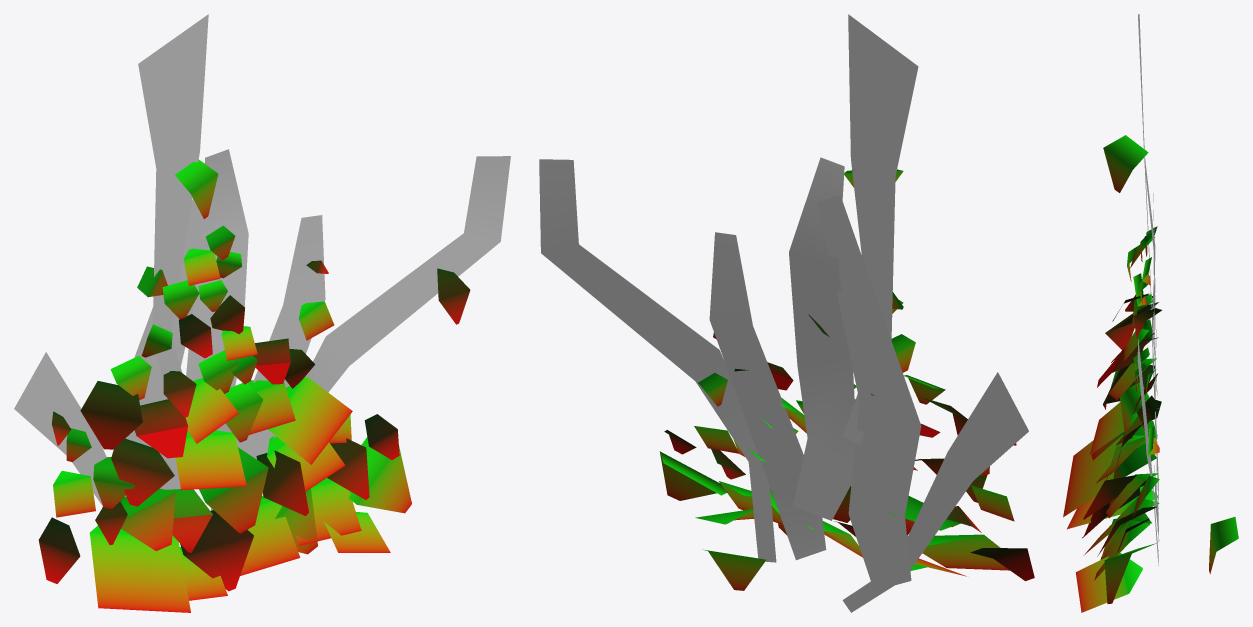
The model's file is Var7_LOD2.fbx.
3 renders of one model, left to right at view 1: azimuth 30°, elevation 25°; view 2: azimuth 150°, elevation 25°; view 3: azimuth 270°, elevation 25°, orthographic. The views are drawn at different scales.
Visible parts, largest first — view 1: _f408_Var7_LOD2; view 2: _f408_Var7_LOD2; view 3: _f408_Var7_LOD2.
Part boxes in pixels (left/top/right/bottom): _f408_Var7_LOD2: left=14, top=14, right=510, bottom=612; _f408_Var7_LOD2: left=539, top=14, right=1034, bottom=612; _f408_Var7_LOD2: left=1063, top=14, right=1238, bottom=612.
Size of the model in its own units: 47.86 by 53.8 by 15.69.
